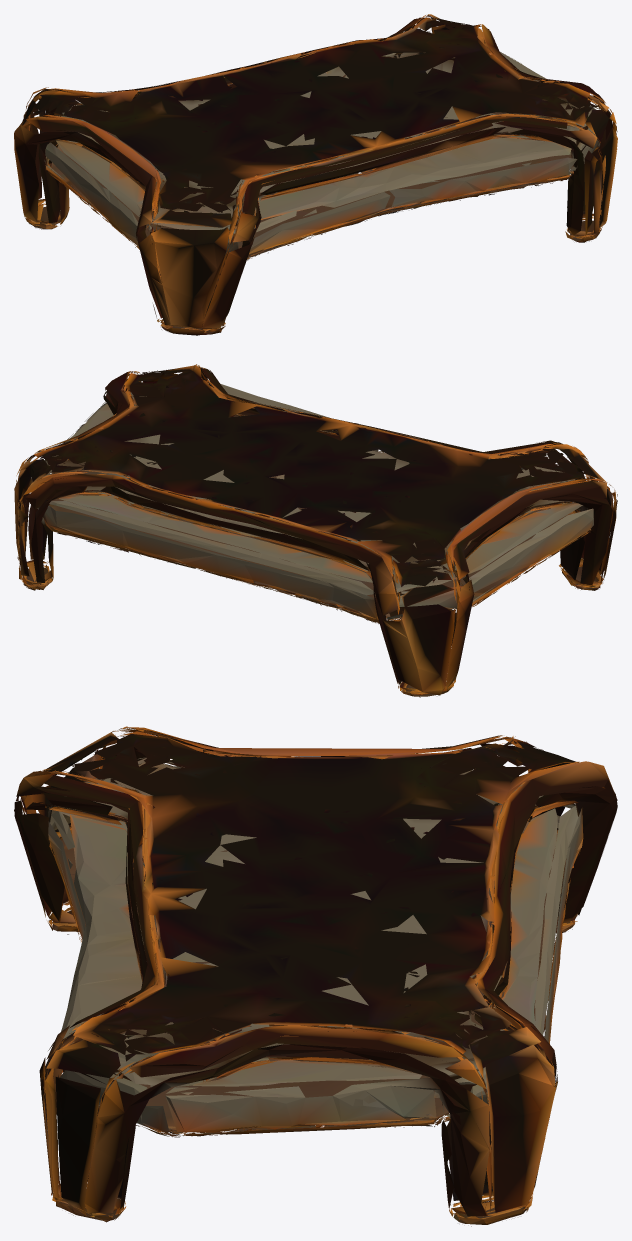
Rendered from table-preview.glb.
3 views of the same model, one above another, from view 1: azimuth 30°, elevation 25°; view 2: azimuth 150°, elevation 25°; view 3: azimuth 270°, elevation 25° (orthographic). The views are drawn at different scales.
Parts seen in each view (by area): view 1: geometry_0; view 2: geometry_0; view 3: geometry_0.
Boxes of the visible parts, <box> form: geometry_0: <box>14,14,617,335</box>; geometry_0: <box>14,364,617,697</box>; geometry_0: <box>14,726,617,1226</box>.
Size of the model in its own units: 1.12 by 0.2621 by 0.8123.
